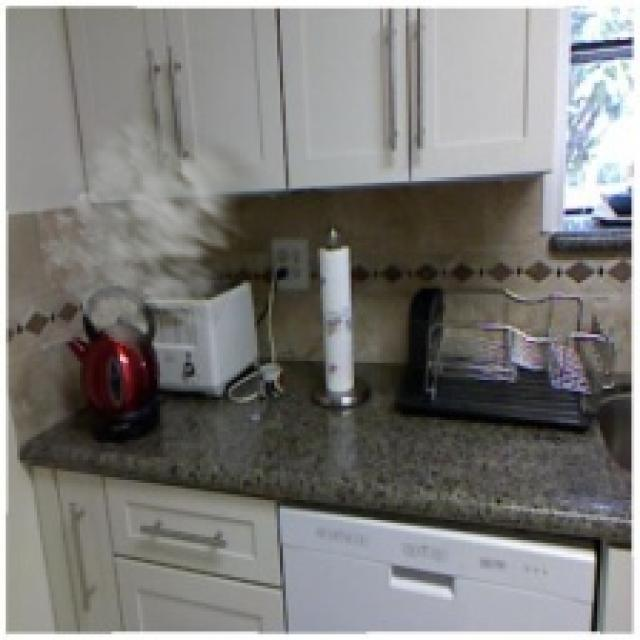Smoke: (37, 103, 280, 363)
